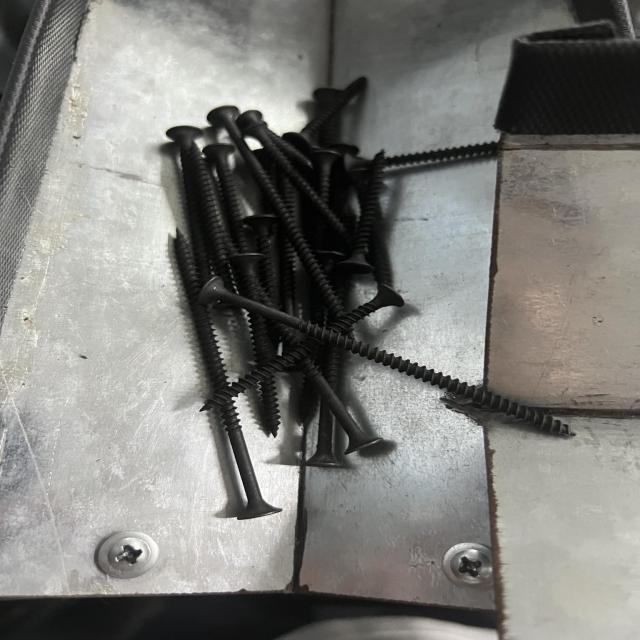screw: (194, 276, 578, 437)
